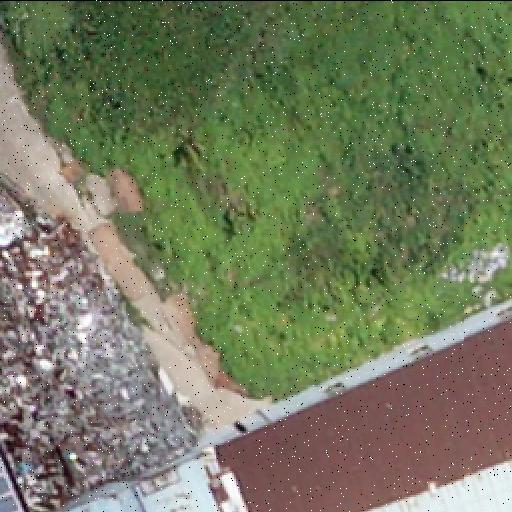solar-panel: (1, 464, 23, 512)
